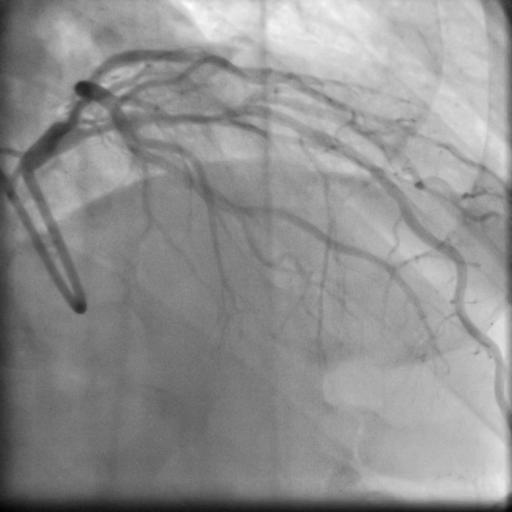Stenosis: (147, 107, 221, 126)
